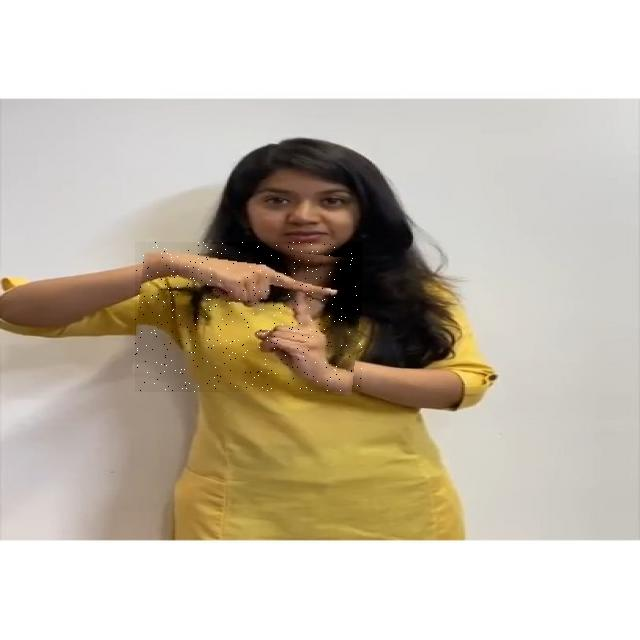T: (135, 242, 362, 392)
